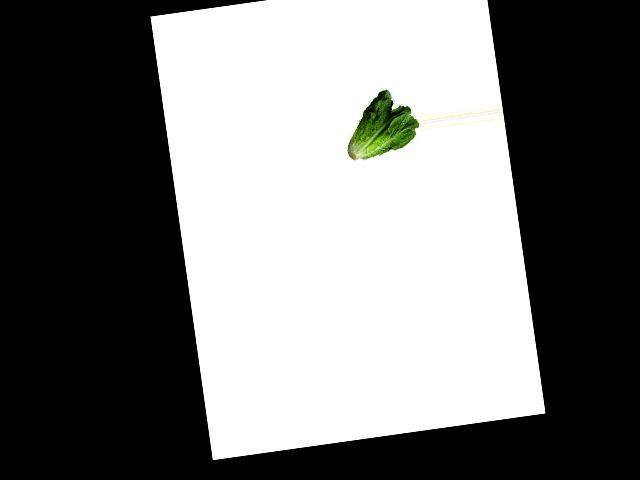lettuce: (340, 83, 424, 163)
